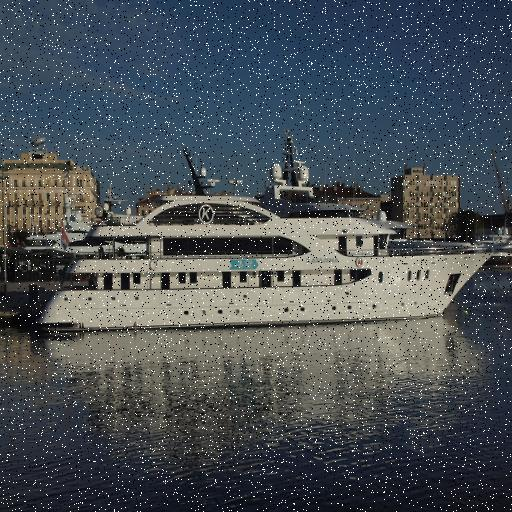cruises: (27, 141, 511, 337)
